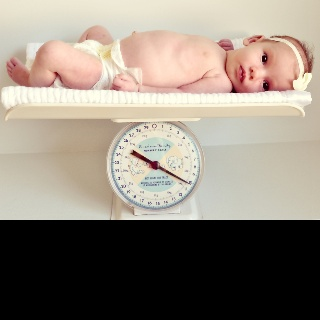without_mask: (225, 33, 315, 93)
